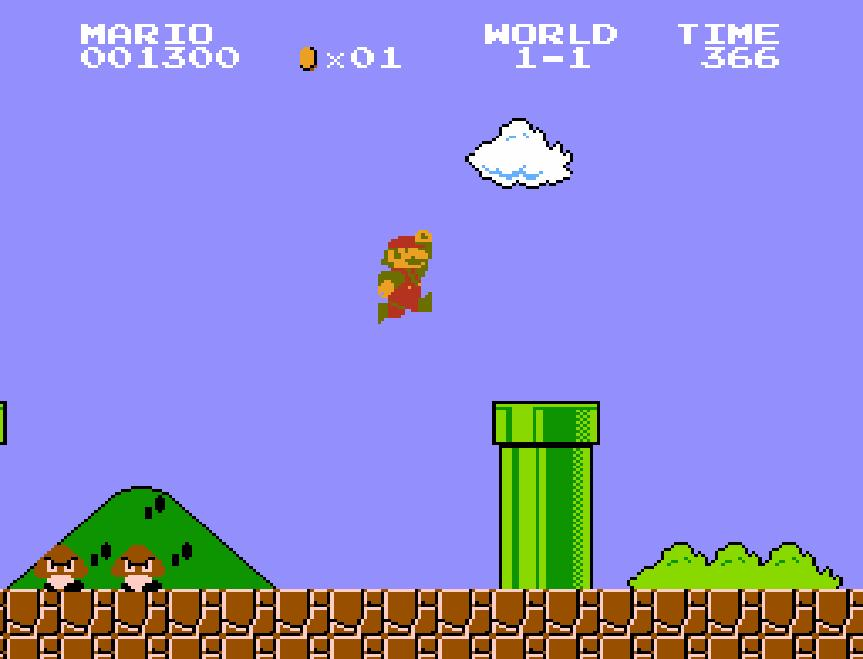big_mario: (376, 227, 434, 326)
